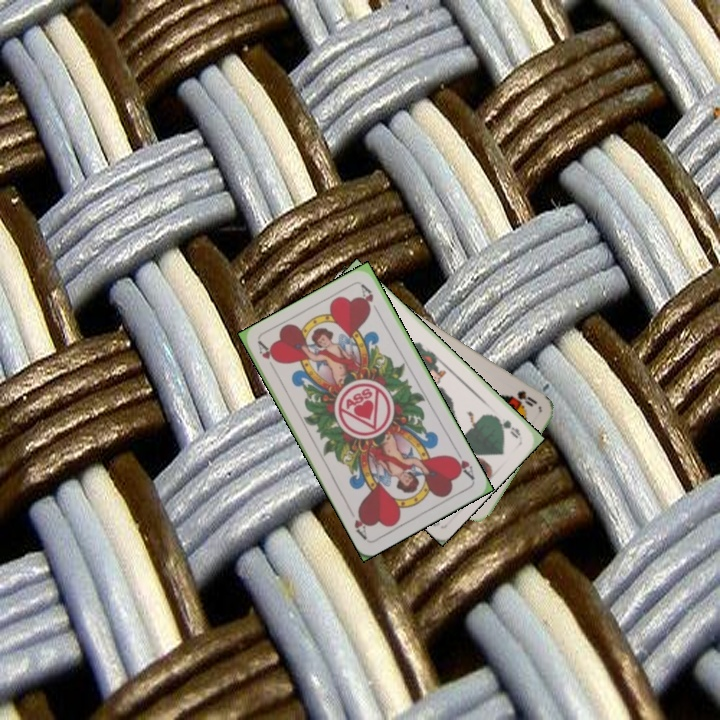GO: (489, 411, 523, 441)
HA: (447, 445, 477, 483), (254, 338, 280, 365)
SO: (506, 386, 540, 409)
